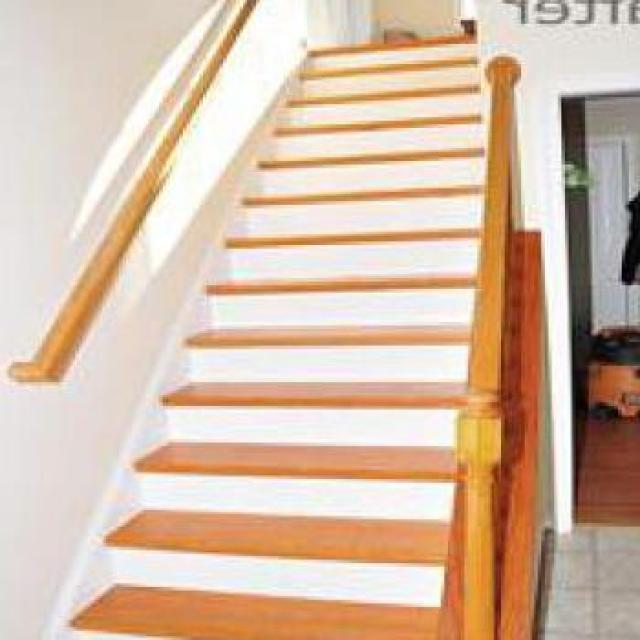Stairs: (52, 53, 586, 618)
